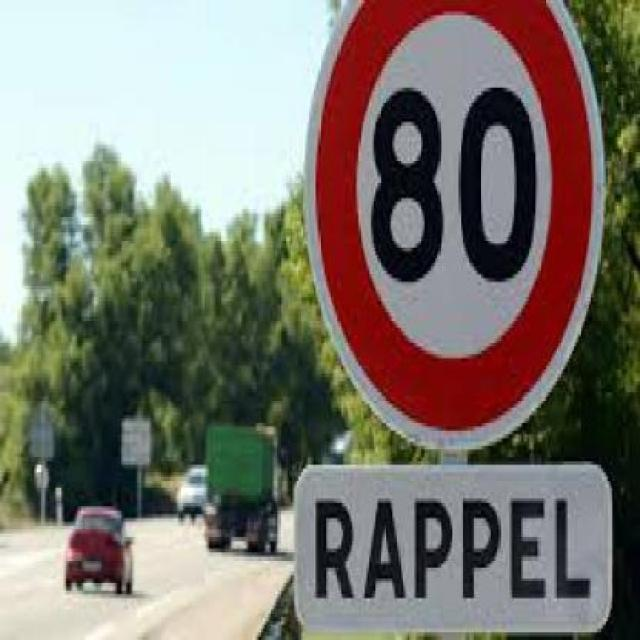forb_speed_over_80: (342, 8, 568, 382)
